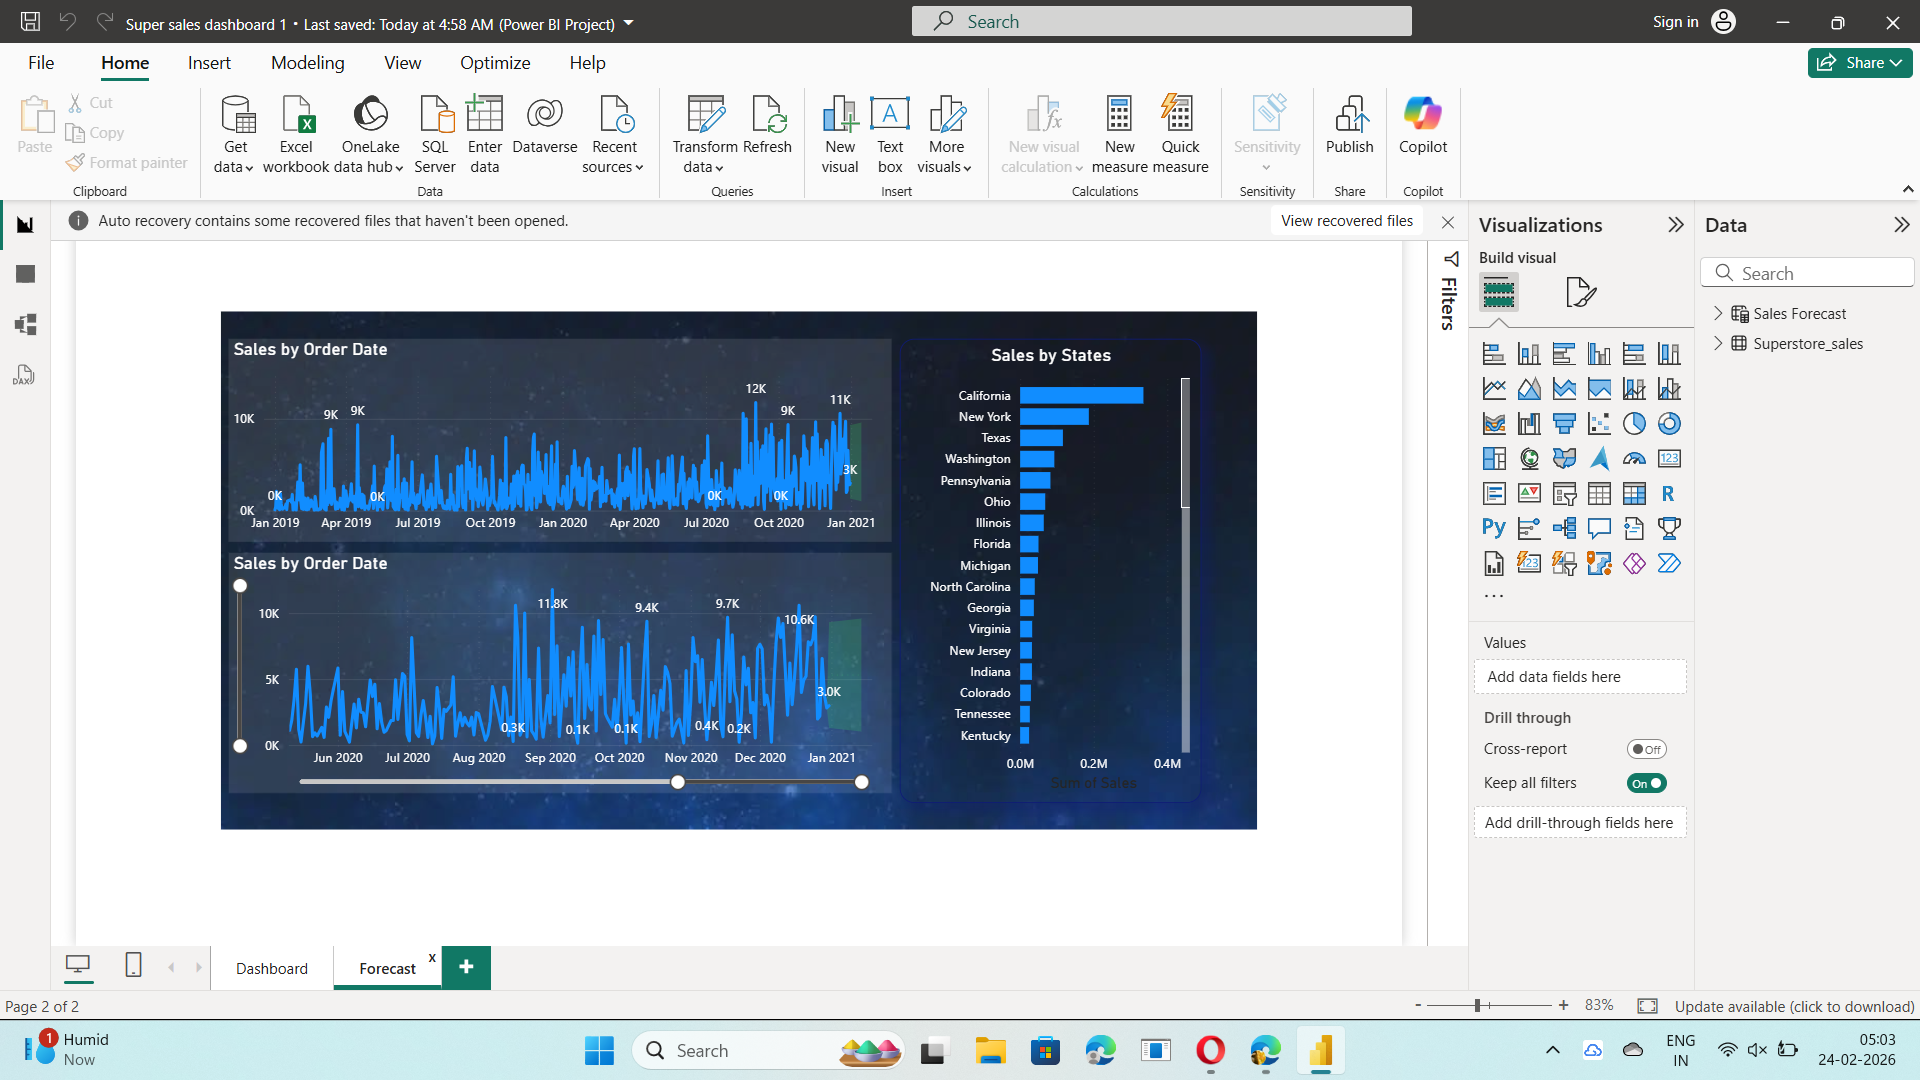

The page's visual inventory and layout, read from the dashboard file:
{"tool":"powerbi","page":{"name":"Forecast","canvas":[1280,720],"ordinal":1},"visuals":[{"type":"lineChart","title":"Sales by Order Date","fields":{"Y":["Sum(Superstore_sales.Sales)"],"Category":["Superstore_sales.Order Date"]},"box":[147,134,640,196],"z":0},{"type":"lineChart","title":" Sales by Order Date","fields":{"Y":["Sum(Superstore_sales.Sales)"],"Category":["Superstore_sales.Order Date"]},"box":[147,340,640,232],"z":1000},{"type":"clusteredBarChart","title":"Sales by States","fields":{"Y":["Sum(Super Store Sales Performance.Sales)"],"Category":["Superstore_sales.State"]},"box":[795,134,291,448],"z":2000}]}

Visuals, with their boxes on the page's 1280x720 design canvas (x1, y1, x2, y2). These are canvas units, not pixel positions in the 1920x1080 screenshot, which may show the page scaled, cropped or inside an application window:
"Sales by Order Date" lineChart: [147, 134, 787, 330]
" Sales by Order Date" lineChart: [147, 340, 787, 572]
"Sales by States" clusteredBarChart: [795, 134, 1086, 582]
